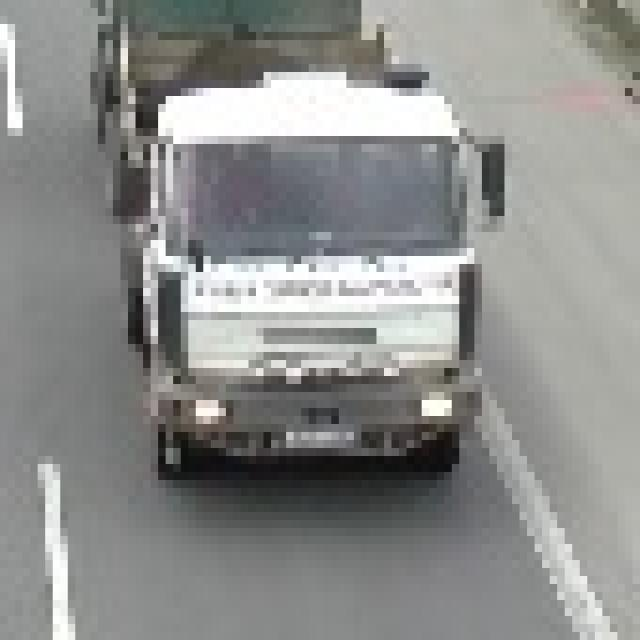truck: (76, 0, 504, 480)
